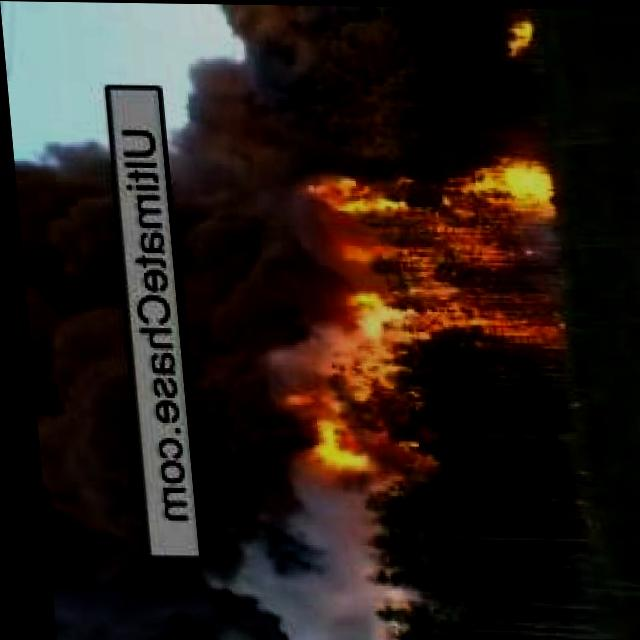helmet: (279, 139, 568, 476), (499, 18, 536, 52)
no_helmet: (156, 66, 297, 640), (10, 150, 141, 640)
